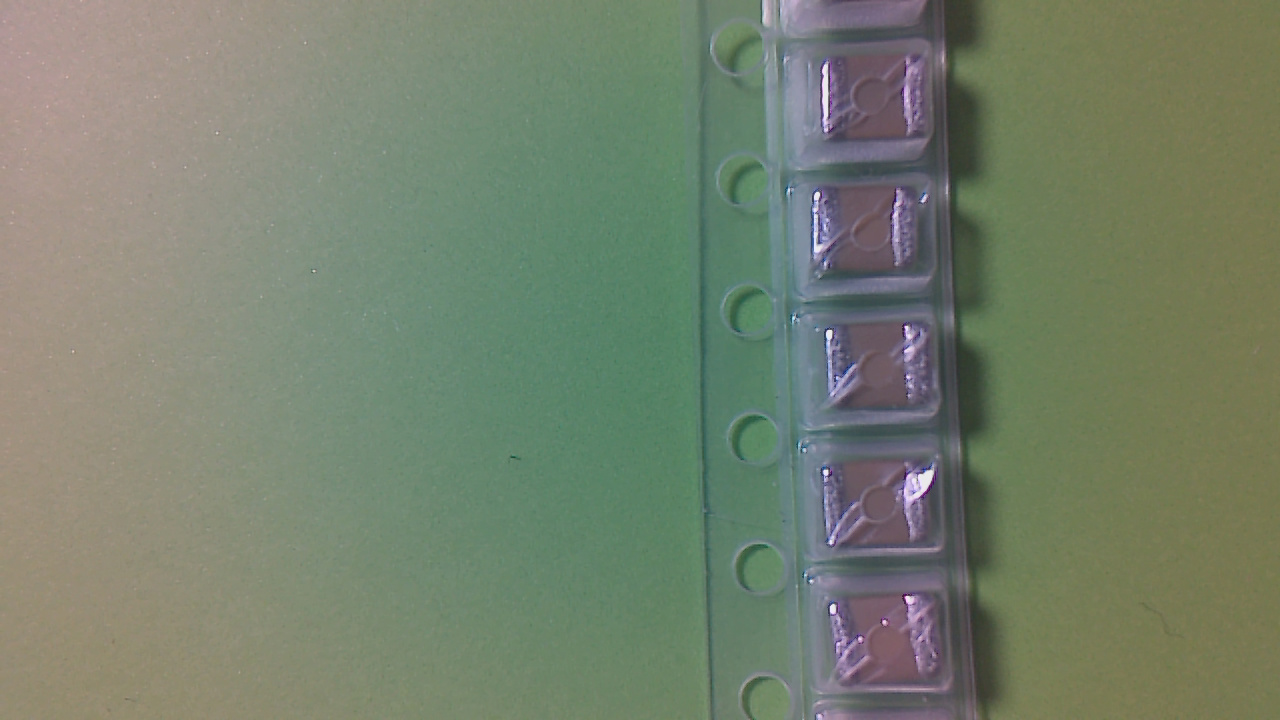Condensator: (831, 601, 945, 687), (813, 189, 922, 277), (826, 462, 937, 546), (822, 60, 925, 145), (833, 327, 932, 409)
